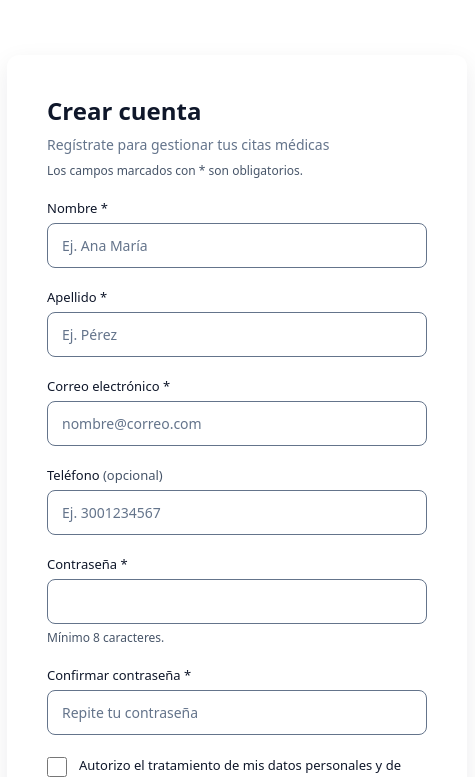
it: HU-01 registro › HU-25: sin aceptar el tratamiento de datos no se envía
This screenshot has width=475, height=777.
Step 1. Type "Ana" into the field with id "registro-nombre" → (237, 246), box [47, 223, 427, 268]
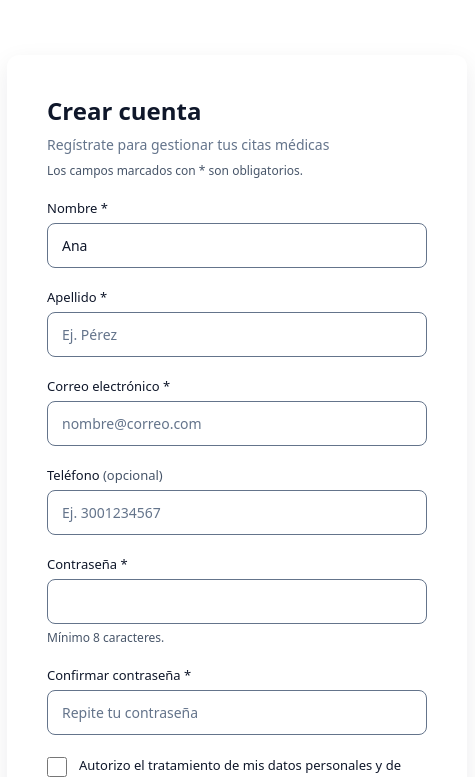
Step 2. Type "Pérez" into the field with id "registro-apellido" → (237, 334), box [47, 312, 427, 357]
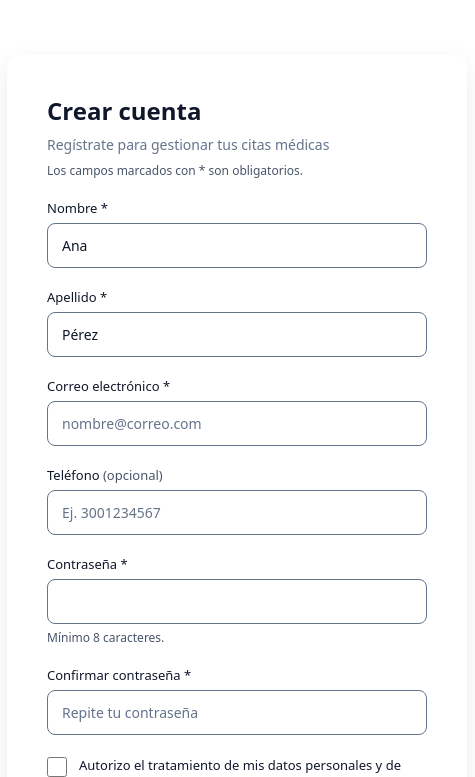
Step 3. Type "ana@correo.com" into the field with id "registro-correo" → (237, 424), box [47, 401, 427, 446]
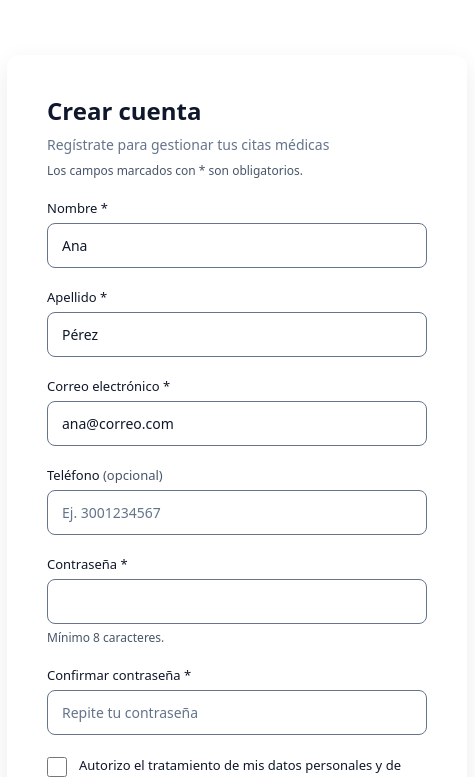
Step 4. Type "claveSegura1" into the password field with id "registro-contrasena" → (237, 602), box [47, 579, 427, 624]
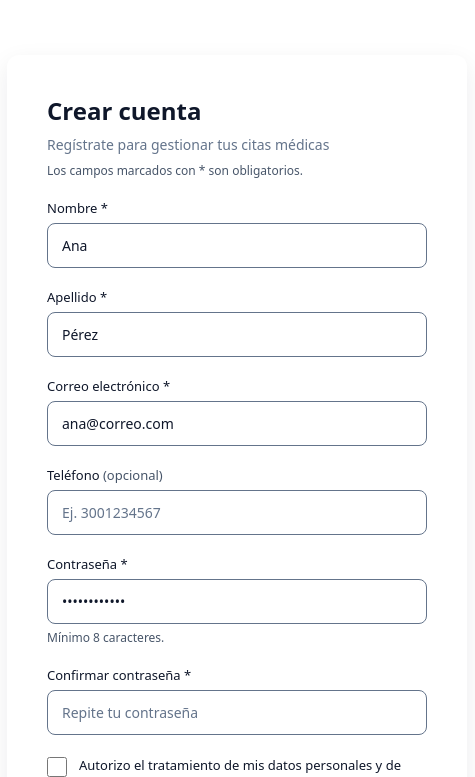
Step 5. Type "claveSegura1" into the password field with id "registro-confirmarContrasena" → (237, 712), box [47, 690, 427, 735]
(page scrolled)
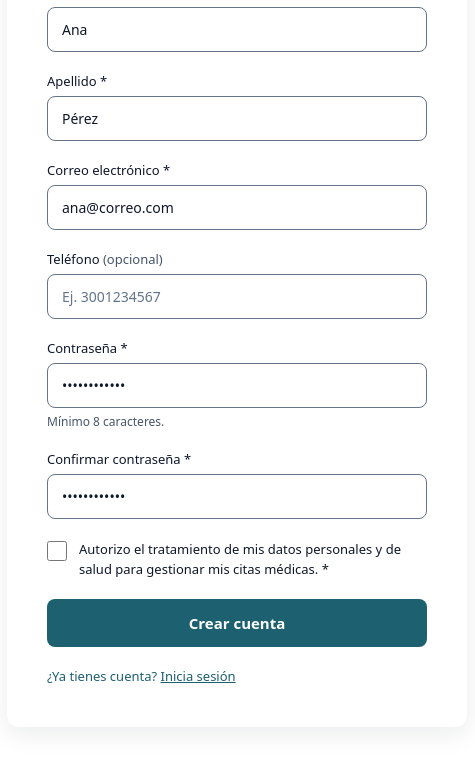
Step 6. Click the button "Crear cuenta" → (237, 623), box [47, 599, 427, 647]
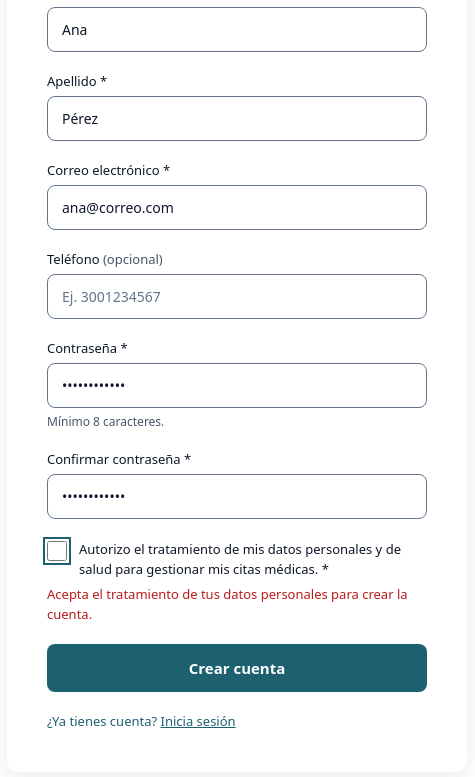
Expected: the text "Acepta el tratamiento de tus datos personales para crear la cuenta." is shown, [47, 585, 427, 624]
